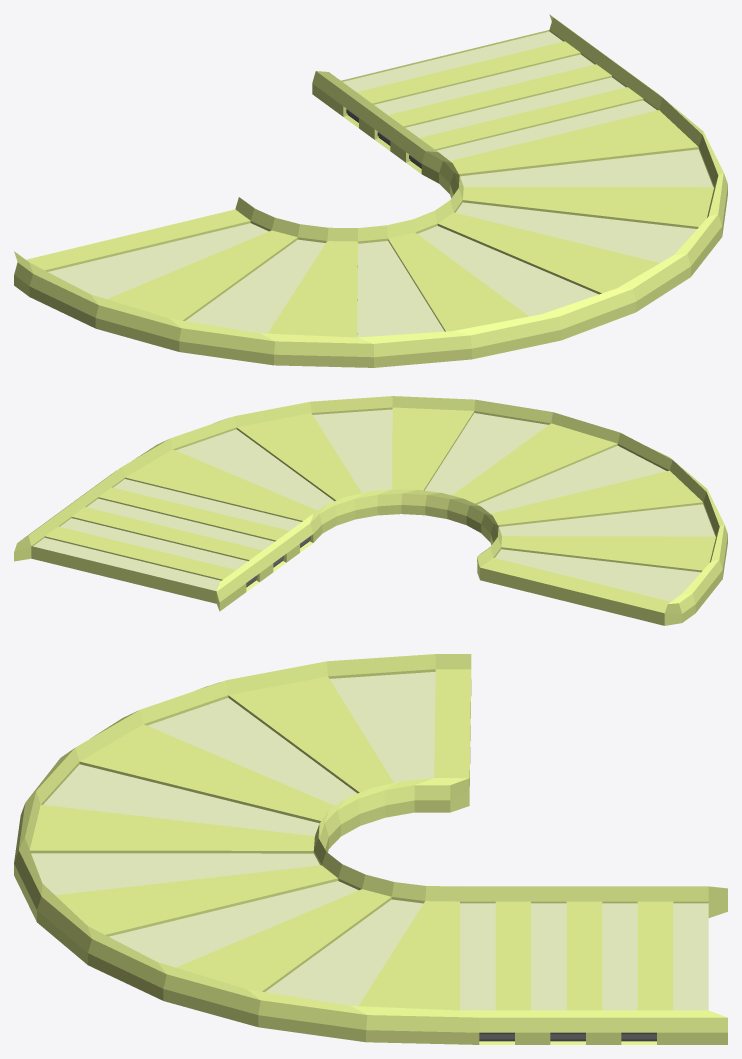
The model's file is Race Course U curve.fbx.
3 renders of one model, top to bottom at view 1: azimuth 30°, elevation 25°; view 2: azimuth 150°, elevation 25°; view 3: azimuth 270°, elevation 25°, orthographic. The views are drawn at different scales.
Visible parts, largest first — view 1: Cube; view 2: Cube; view 3: Cube.
Part boxes in pixels (x1,y1,x2,y2): Cube: (14, 14, 727, 367); Cube: (14, 396, 727, 625); Cube: (14, 654, 727, 1044).
Bounding box in the file's own units: 2022 × 77.16 × 1669.
